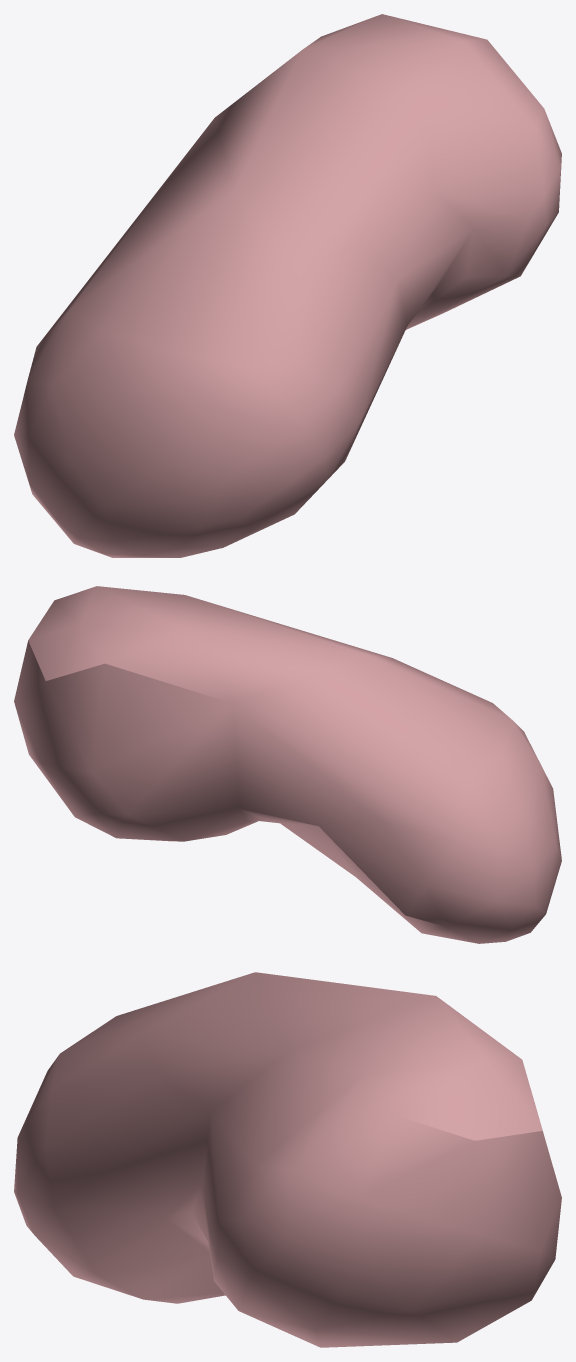
File: fma16982_fj2607.glb
The picture shows the model from 3 angles, top to bottom: view 1: azimuth 30°, elevation 25°; view 2: azimuth 150°, elevation 25°; view 3: azimuth 270°, elevation 25°; orthographic projection. The views are drawn at different scales.
Visible parts, largest first — view 1: FMA16982_FJ2607; view 2: FMA16982_FJ2607; view 3: FMA16982_FJ2607.
Part boxes in pixels (x1,y1,x2,y2): FMA16982_FJ2607: (14,14,561,557); FMA16982_FJ2607: (14,586,561,943); FMA16982_FJ2607: (14,972,561,1347).
Bounding box in the file's own units: 0.0471 × 0.0297 × 0.0341.
